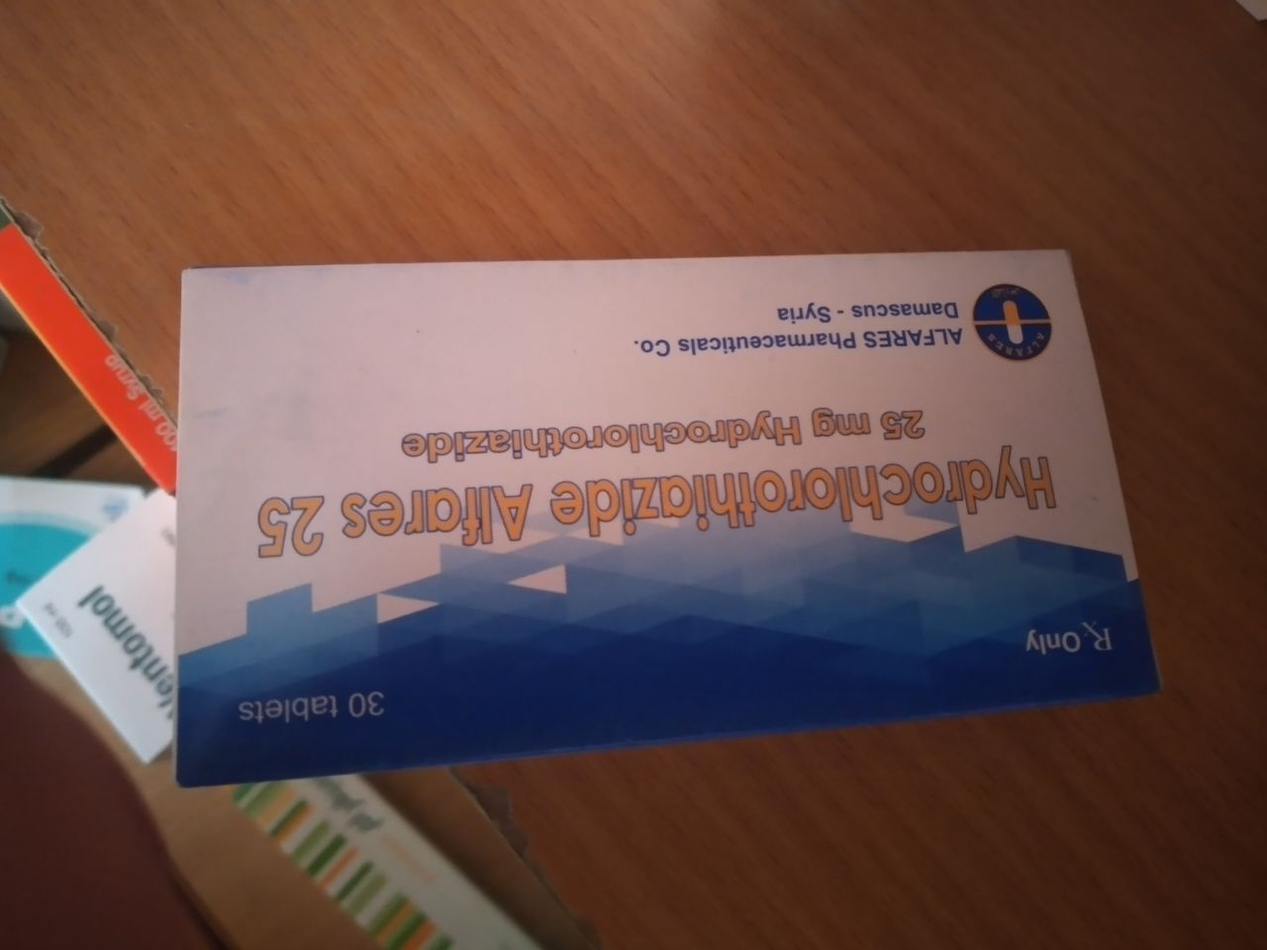Medicine: (168, 250, 1153, 782)
